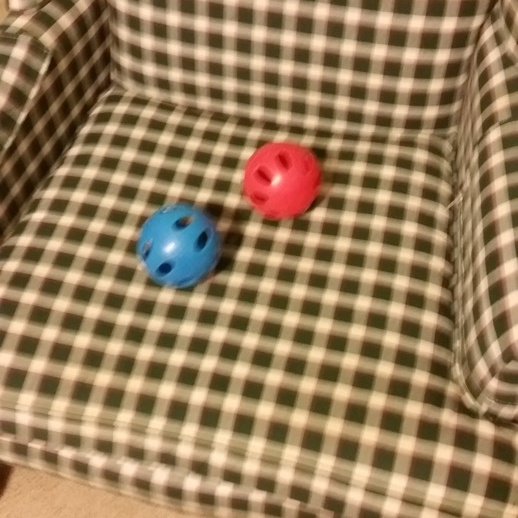ball: (132, 201, 225, 293), (242, 139, 324, 223)
